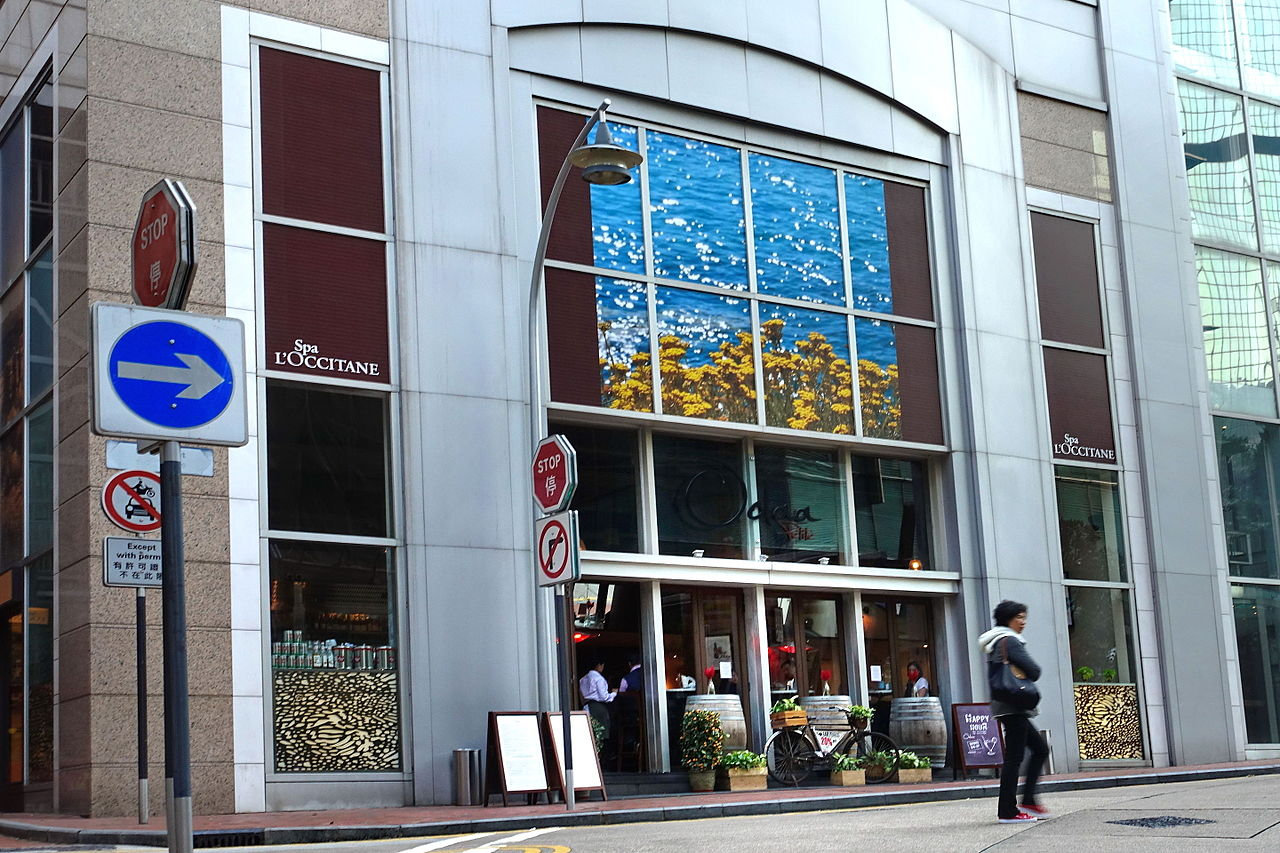No Car: (104, 469, 174, 532)
No Turn Right: (532, 520, 575, 590)
Stop: (130, 182, 184, 301), (524, 436, 568, 508)
Turn Right: (97, 315, 246, 431)
